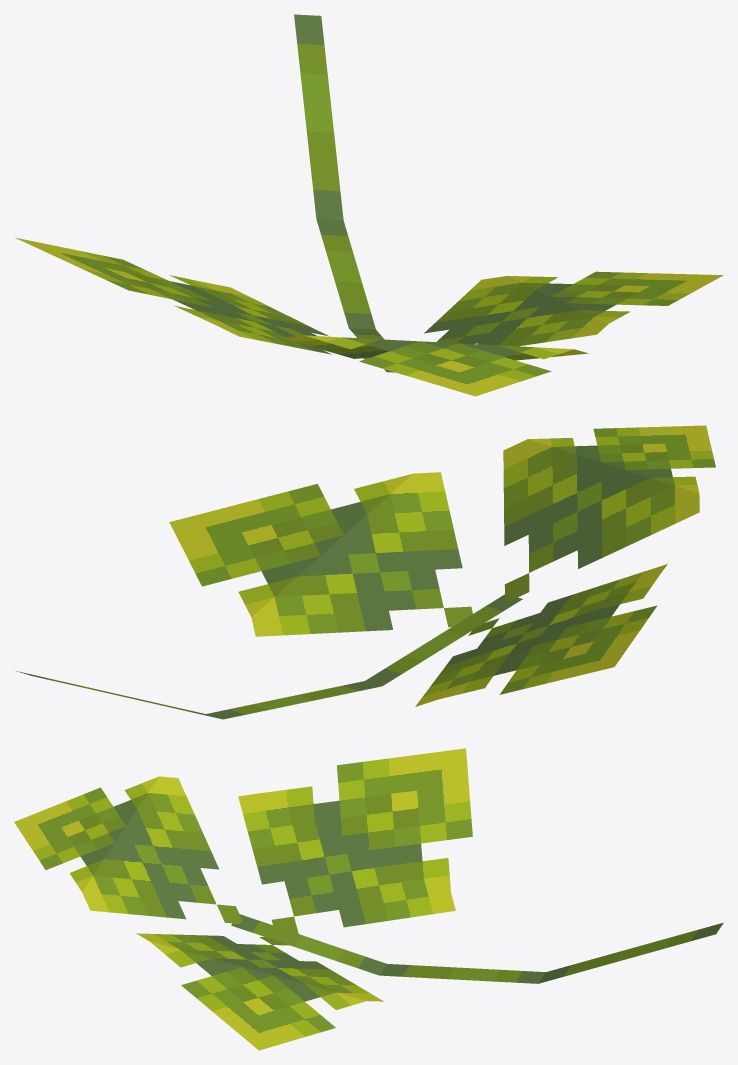
Rendered from parsley.fbx.
3 views of the same model, one above another, from view 1: azimuth 30°, elevation 25°; view 2: azimuth 150°, elevation 25°; view 3: azimuth 270°, elevation 25° (orthographic). The views are drawn at different scales.
Visible parts, largest first — view 1: Parsley; view 2: Parsley; view 3: Parsley.
Boxes of the visible parts, left/top/right/bottom form: Parsley: left=15, top=14, right=723, bottom=396; Parsley: left=15, top=425, right=715, bottom=719; Parsley: left=14, top=748, right=723, bottom=1050.
Size of the model in its own units: 75.18 by 18.3 by 97.42.
Materials: 1 (1 with a texture image).
